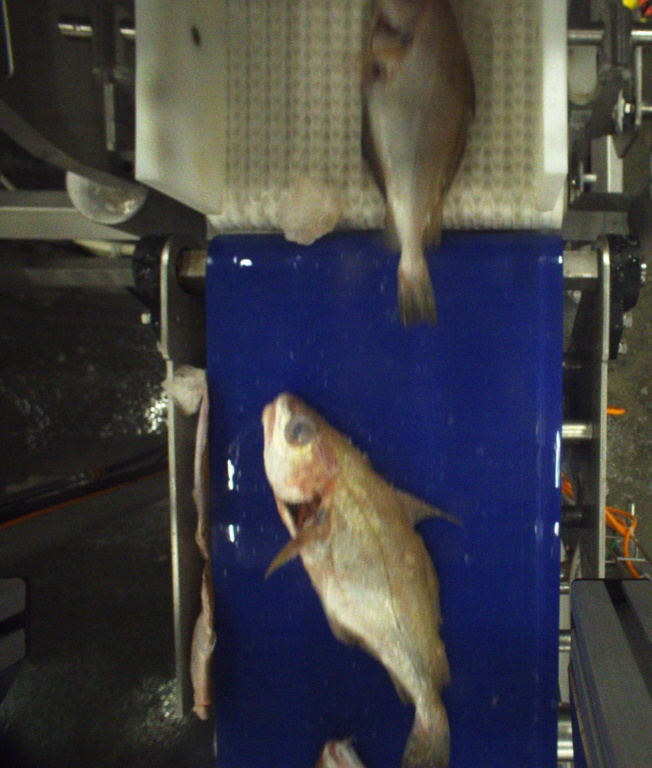BIB: (258, 387, 465, 768)
